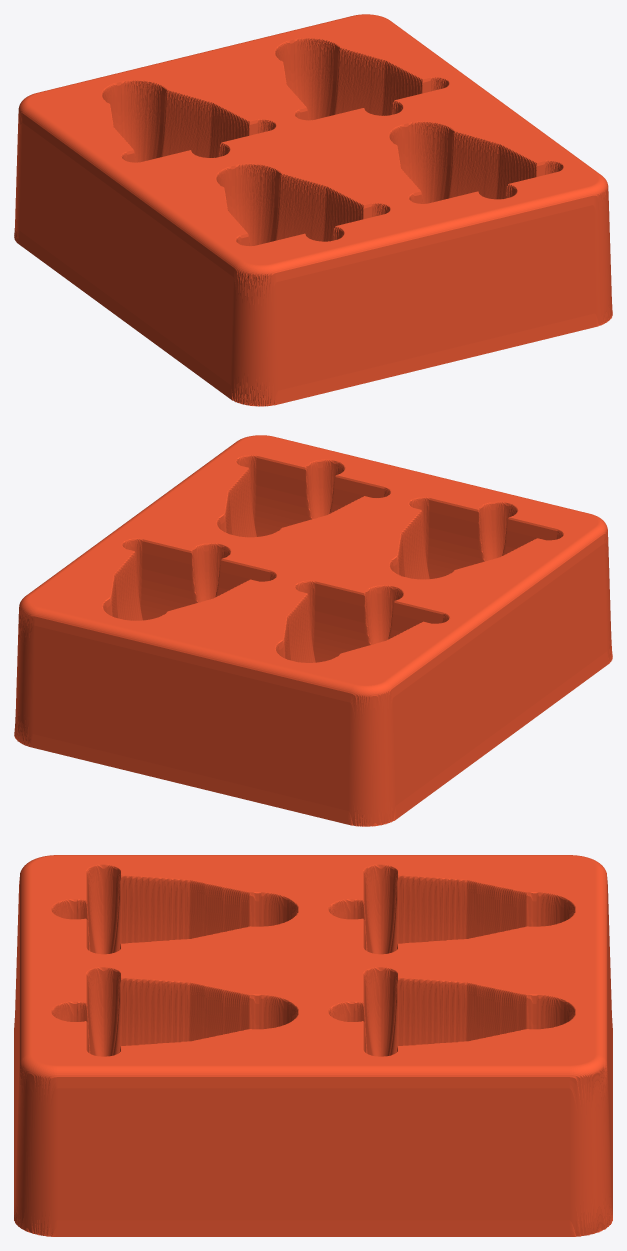
Rendered from mold.glb.
The picture shows the model from 3 angles, top to bottom: view 1: azimuth 30°, elevation 25°; view 2: azimuth 150°, elevation 25°; view 3: azimuth 270°, elevation 25°; orthographic projection. The views are drawn at different scales.
Parts seen in each view (by area): view 1: geometry_0; view 2: geometry_0; view 3: geometry_0.
Boxes of the visible parts, bbox=[...] form: geometry_0: bbox=[14, 14, 612, 406]; geometry_0: bbox=[14, 435, 612, 826]; geometry_0: bbox=[14, 855, 612, 1236].
Size of the model in its own units: 0.1104 by 0.0377 by 0.1248.
